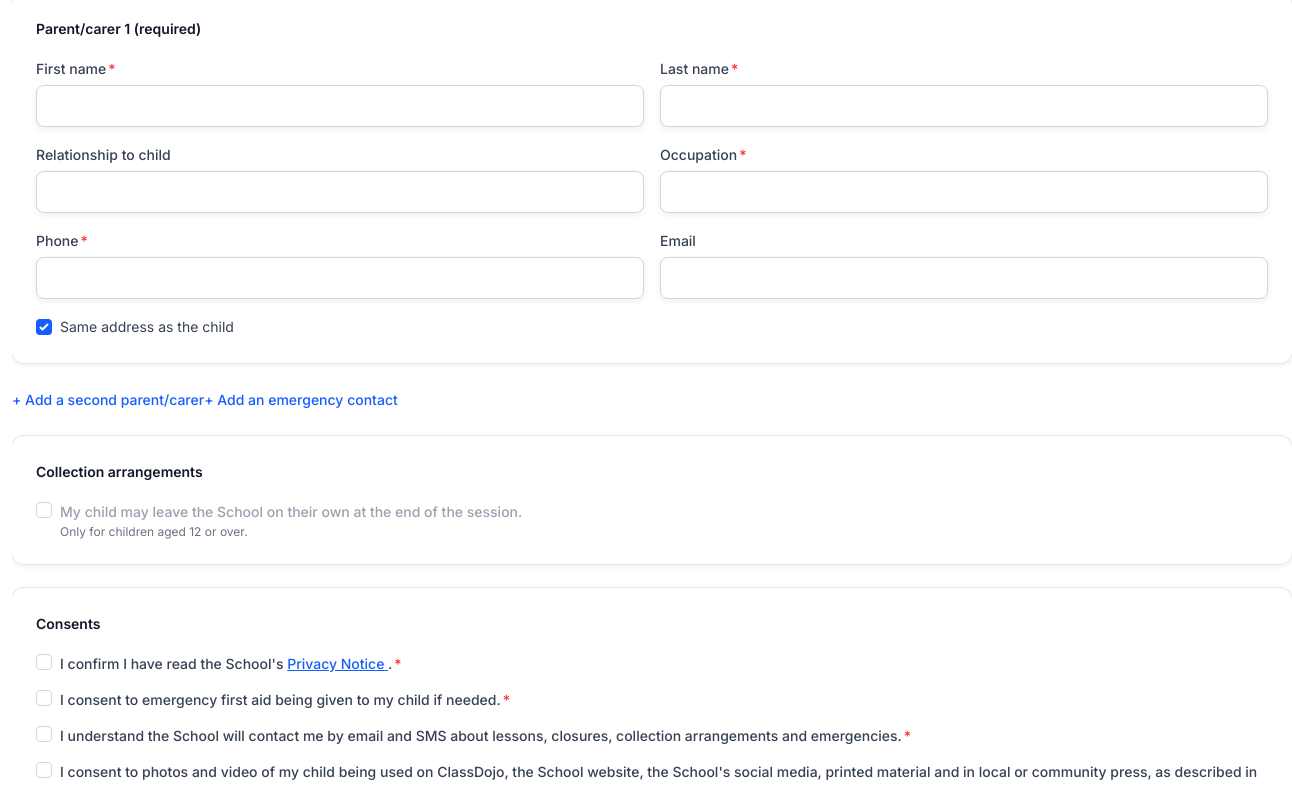
Test case: RegistrationForm › may leave unaccompanied › sits alongside the collection fields once an emergency contact is added
(page scrolled)
Click the button "+ Add an emergency contact": coordinates (301, 400) [204,388,398,412]
(page scrolled)
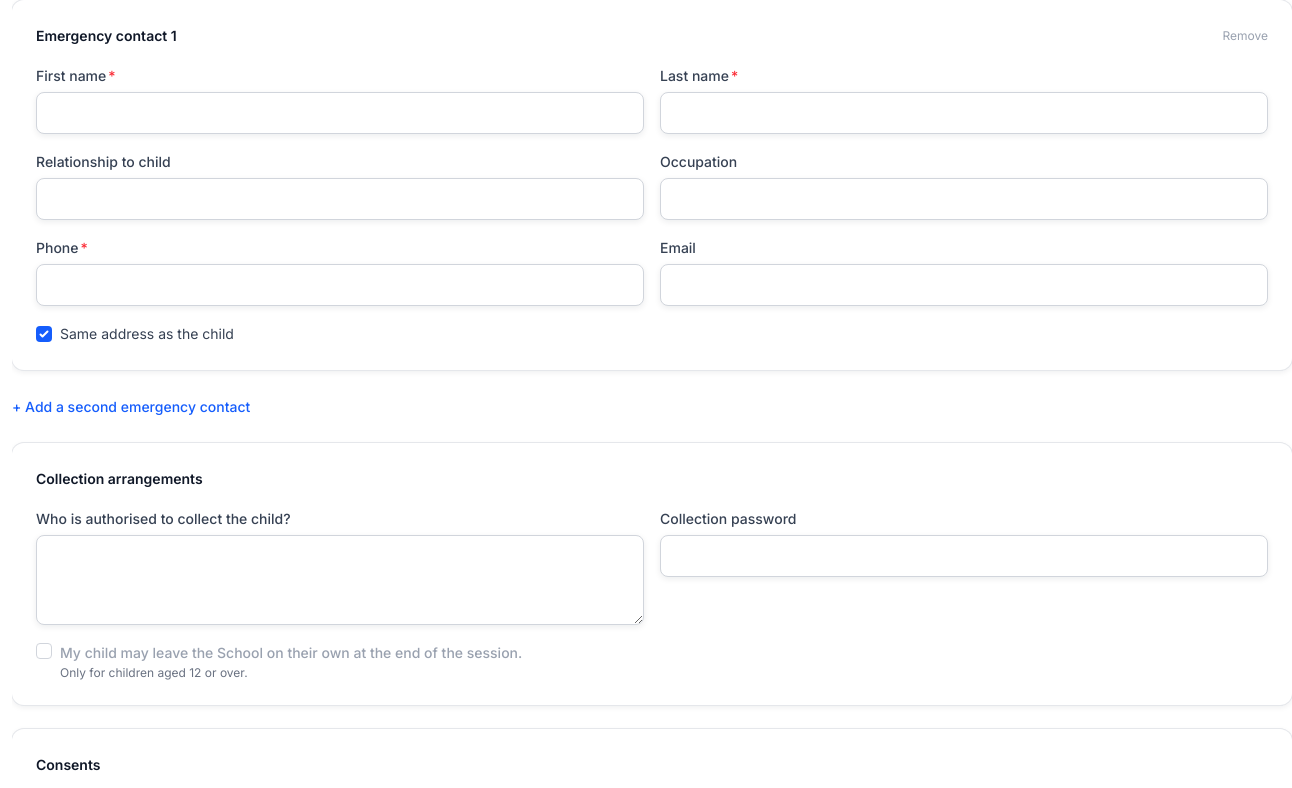
expect the field labelled "Collection password" is shown: met, box [660,535,1268,577]
